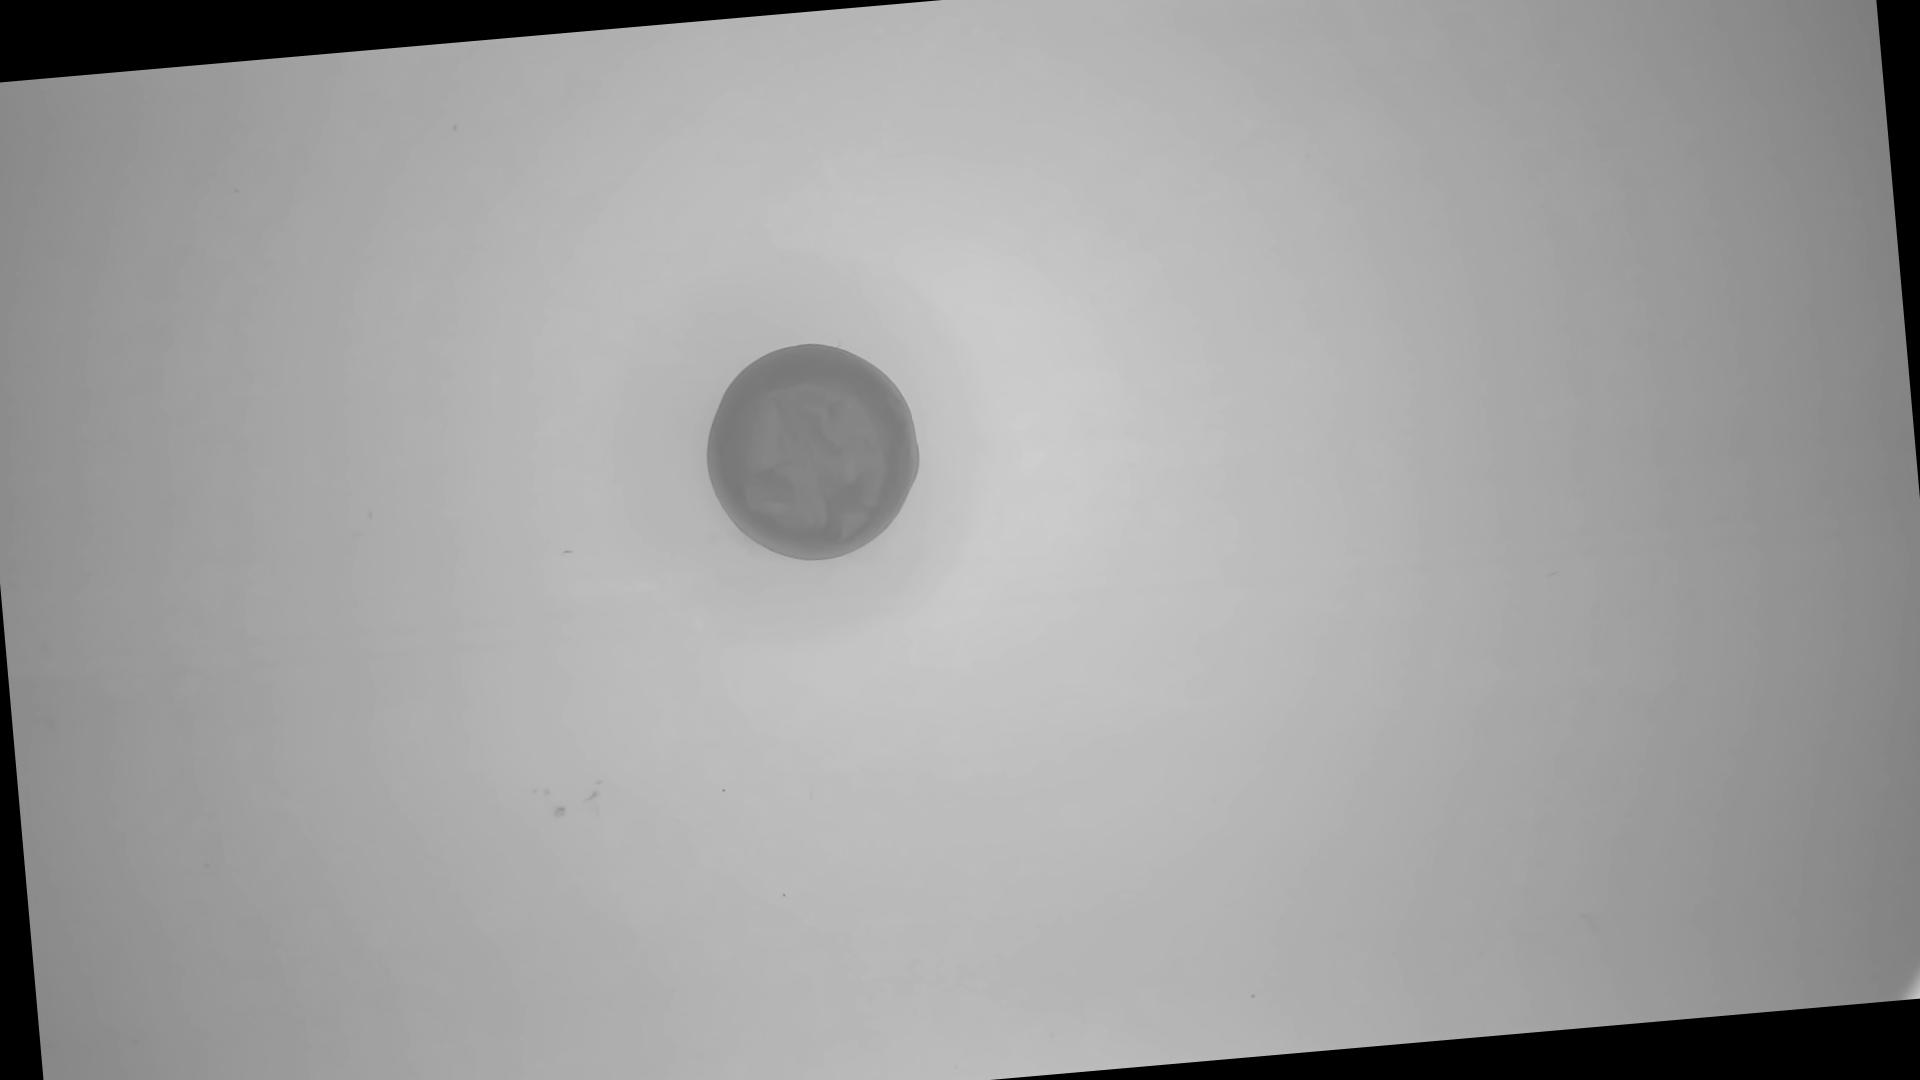abnormal: (698, 334, 934, 574)
